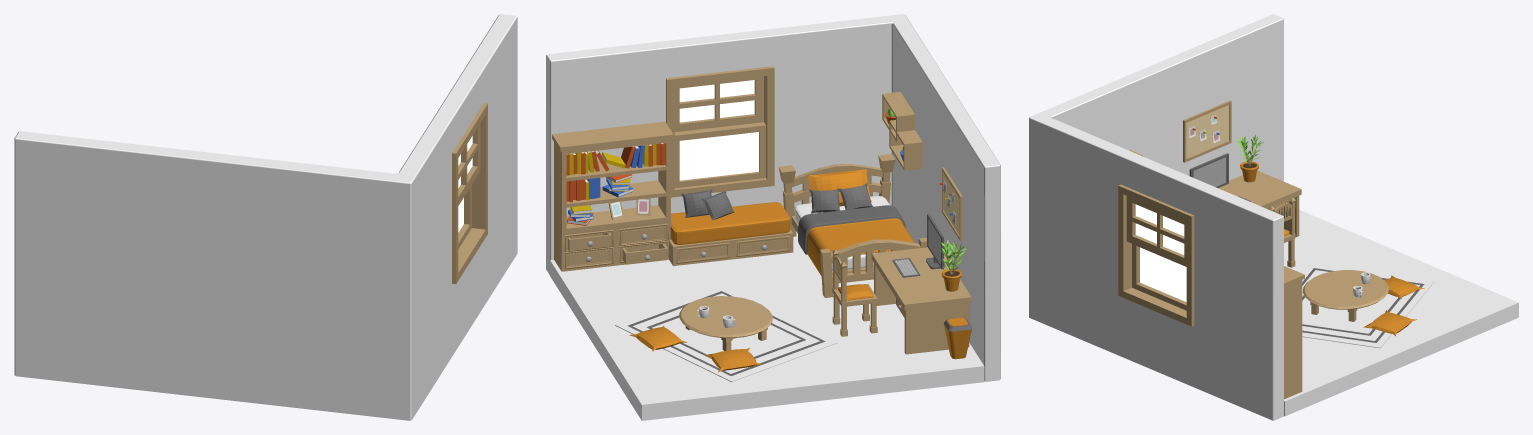
The model's file is Bedroom.glb.
3 renders of one model, left to right at view 1: azimuth 30°, elevation 25°; view 2: azimuth 150°, elevation 25°; view 3: azimuth 270°, elevation 25°, orthographic. The views are drawn at different scales.
Visible parts, largest first — view 1: Wall, Window; view 2: Wall, Floor, Window, Bookshelf, Carpet, Table, Sofa, Bed, Bed frame, Coffe table, Pillow, Wallshelf (+13 smaller); view 3: Wall, Floor, Window, Carpet, Coffe table, Bookshelf, Board, Table, PC, Chair, Cushion, Plant (+1 smaller).
Part boxes in pixels (box(x1,y1,x2,y2)): Wall: box(14, 14, 517, 420); Window: box(452, 103, 487, 283); Wall: box(546, 14, 1000, 381); Floor: box(550, 232, 984, 420); Window: box(666, 66, 774, 197); Bookshelf: box(552, 121, 673, 271); Carpet: box(615, 286, 837, 382); Table: box(871, 247, 971, 354); Sofa: box(669, 202, 793, 266); Bed: box(795, 196, 914, 275); Bed frame: box(778, 154, 927, 297); Coffe table: box(679, 296, 772, 350); Pillow: box(807, 169, 872, 213); Wallshelf: box(882, 92, 922, 170); Wall: box(1029, 14, 1283, 420); Floor: box(1284, 210, 1518, 416); Window: box(1118, 184, 1194, 326); Carpet: box(1302, 263, 1434, 348); Coffe table: box(1302, 270, 1388, 321); Bookshelf: box(1284, 266, 1304, 399); Board: box(1183, 100, 1231, 162); Table: box(1218, 170, 1301, 236); PC: box(1189, 153, 1228, 187); Chair: box(1268, 197, 1295, 267); Cushion: box(1363, 310, 1417, 336); Plant: box(1237, 134, 1263, 182).
Size of the model in its own units: 11.82 by 5.37 by 11.85.
